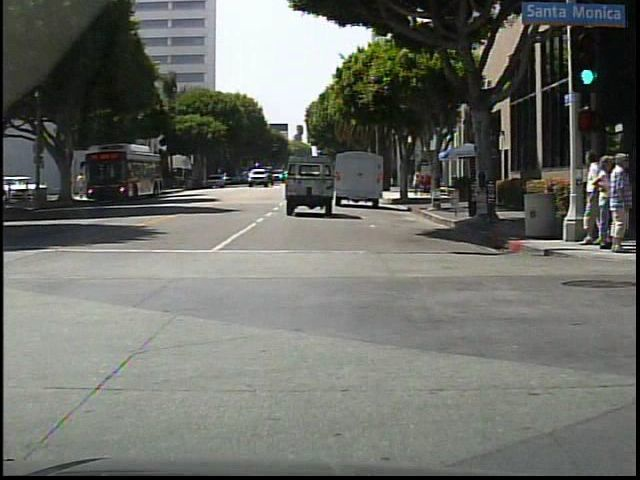person: (602, 153, 637, 256), (578, 150, 604, 250), (594, 157, 616, 251), (78, 170, 88, 201), (413, 171, 422, 197), (67, 175, 76, 201), (408, 169, 415, 198)
